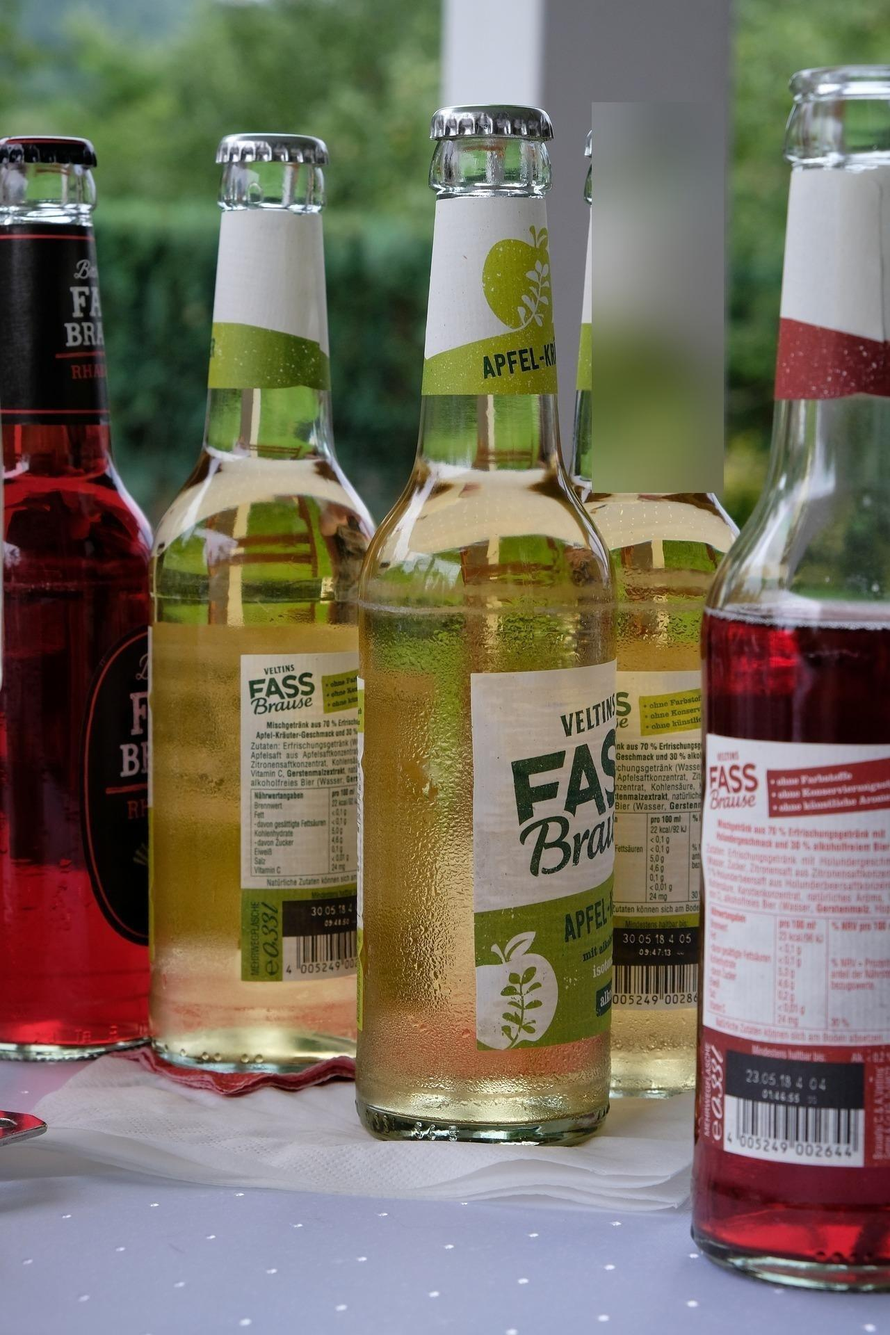bottle-glass: (346, 88, 628, 1162), (139, 113, 395, 1111), (693, 48, 889, 1304), (1, 125, 165, 1083)
